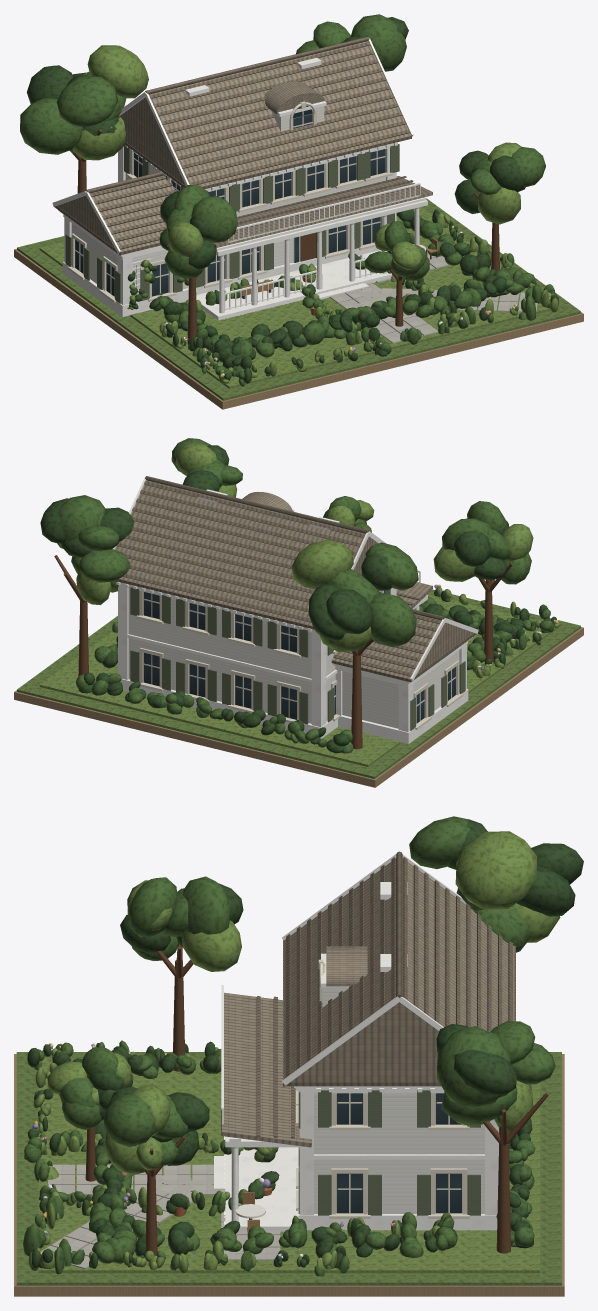
File: nantucketporch.glb
3 renders of one model, top to bottom at view 1: azimuth 30°, elevation 25°; view 2: azimuth 150°, elevation 25°; view 3: azimuth 270°, elevation 25°, orthographic. The views are drawn at different scales.
Visible parts, largest first — view 1: tree_canopy (×19), main_roof_shingles, main_roof_shingle_course (×11), lawn, grass_verge, base_board, porch_roof, wing_roof_shingles, porch_deck, porch_frieze, west_wing_walls, colonial_walls (+10 smaller); view 2: tree_canopy (×24), main_roof_shingles, main_roof_shingle_course (×11), grass_verge, colonial_walls, lawn, base_board, west_wing_walls, wing_roof_shingles, colonial_quoin (×2), tree_trunk (×3), window_glass (×4) (+11 smaller); view 3: tree_canopy (×28), main_roof_shingles, lawn, grass_verge, colonial_walls, main_roof_shingle_course (×13), porch_roof, base_board, porch_deck, tree_trunk (×3), colonial_quoin (×2), window_glass (×3) (+7 smaller).
Part boxes in pixels (box(x1,y1,x2,y2)): tree_canopy (×19): box(20, 14, 545, 278); main_roof_shingles: box(120, 41, 410, 186); main_roof_shingle_course (×11): box(149, 42, 410, 184); lawn: box(39, 206, 558, 388); grass_verge: box(17, 198, 580, 400); base_board: box(14, 249, 583, 409); porch_roof: box(213, 176, 432, 247); wing_roof_shingles: box(57, 175, 174, 251); porch_deck: box(196, 250, 392, 320); porch_frieze: box(216, 200, 427, 256); west_wing_walls: box(71, 223, 188, 295); colonial_walls: box(125, 150, 385, 277); tree_canopy (×24): box(40, 442, 533, 652); main_roof_shingles: box(115, 480, 378, 625); main_roof_shingle_course (×11): box(116, 481, 364, 622); grass_verge: box(17, 589, 580, 778); colonial_walls: box(128, 588, 335, 723); lawn: box(39, 594, 558, 767); base_board: box(14, 627, 583, 787); west_wing_walls: box(342, 650, 459, 728); wing_roof_shingles: box(332, 614, 473, 678); colonial_quoin (×2): box(118, 586, 326, 727); tree_trunk (×3): box(78, 580, 493, 749); window_glass (×4): box(144, 653, 296, 719); tree_canopy (×28): box(47, 816, 583, 1175); main_roof_shingles: box(284, 858, 514, 1082); lawn: box(38, 1058, 539, 1273); grass_verge: box(16, 1052, 561, 1285); colonial_walls: box(314, 1093, 484, 1213); main_roof_shingle_course (×13): box(286, 857, 470, 1077); porch_roof: box(221, 992, 311, 1147); base_board: box(14, 1054, 564, 1296); porch_deck: box(225, 1147, 298, 1231); tree_trunk (×3): box(145, 960, 510, 1255); colonial_quoin (×2): box(299, 1093, 498, 1215); window_glass (×3): box(337, 1093, 461, 1213).
Bounding box in the file's own units: 21.06 × 11.09 × 20.7.
Materials: 24 (23 with a texture image).
